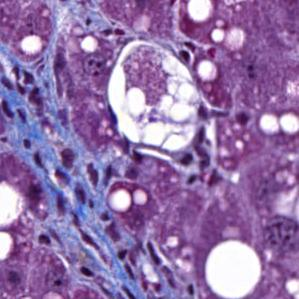ballooning: (107, 39, 208, 159)
